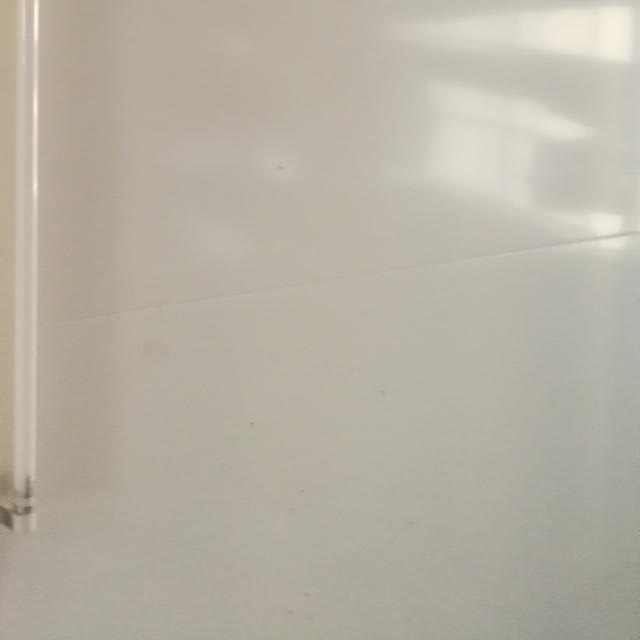fluorescent tube: (0, 0, 149, 556)
